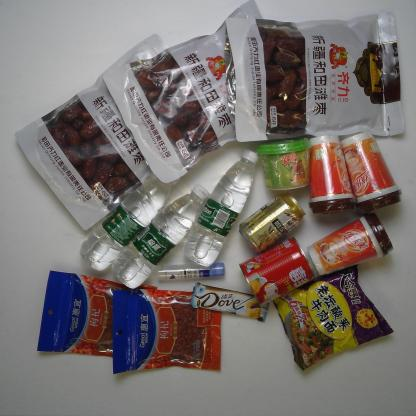Alcohol: (238, 192, 307, 254)
Canned Food: (238, 236, 317, 305)
Chocolate: (191, 281, 270, 324)
Dried Food: (14, 33, 184, 231), (102, 0, 270, 185), (225, 11, 405, 143)
Dried Fruit: (37, 269, 158, 359), (112, 288, 222, 376)
Drink: (78, 167, 180, 273), (112, 184, 210, 290), (181, 148, 261, 268)
Instant Drink: (307, 211, 394, 278), (338, 127, 402, 214), (307, 134, 357, 216), (256, 136, 312, 191)
Instant Noodles: (272, 263, 394, 372)
Stationery: (156, 260, 226, 283)
